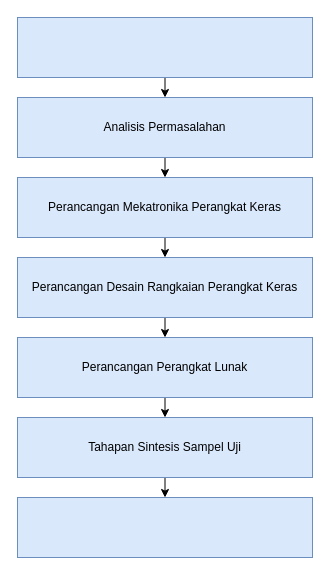
The diagram is 330 pixels wide and 575 high, and some of its shapes have lost their labels. Here are the shapes that lost their labels. From the top down, the box of each, then its label:
(16, 16, 312, 78): Studi Literatur
(16, 496, 312, 558): Perancangan Pengujian dan Analisis Sistem
